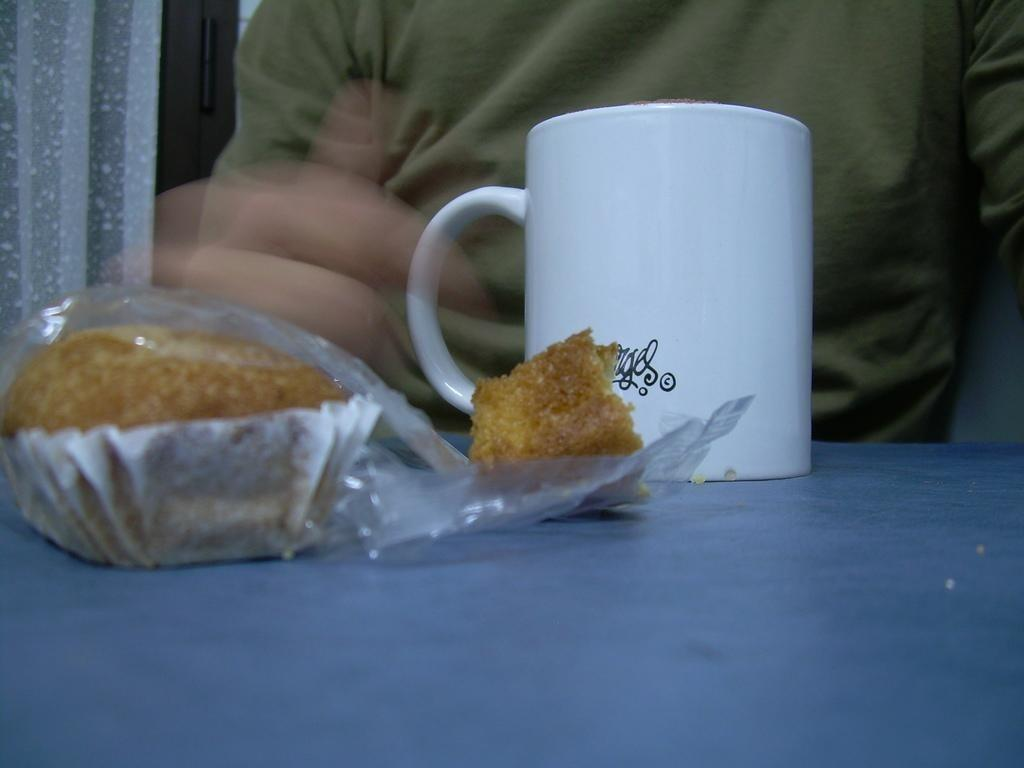cup-handle: (408, 98, 821, 489)
